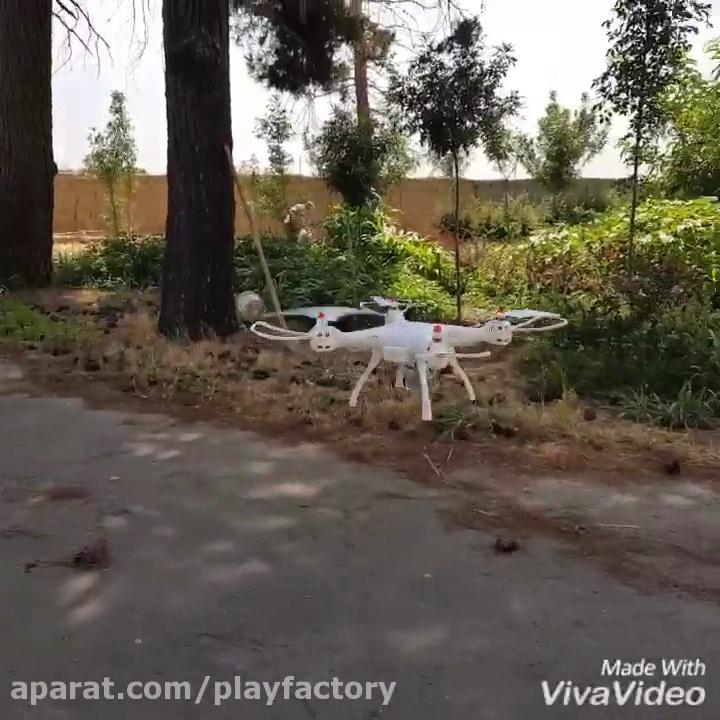drone: (250, 293, 568, 423)
